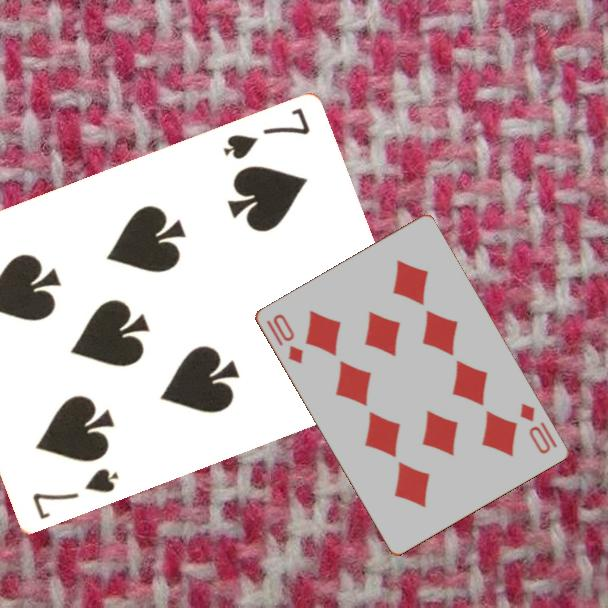d10: (516, 399, 560, 457), (262, 310, 306, 367)
s07: (219, 104, 313, 163), (29, 465, 121, 523)
